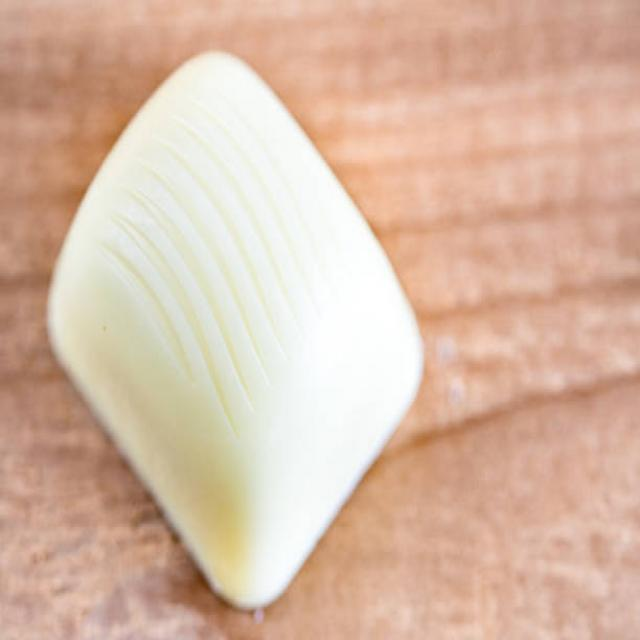chocolate: (42, 42, 424, 607)
